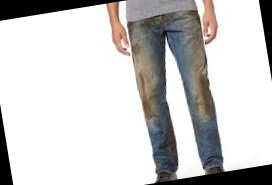earth: (196, 75, 216, 116), (137, 75, 153, 119), (164, 125, 180, 165), (128, 23, 139, 54), (143, 19, 153, 29)
